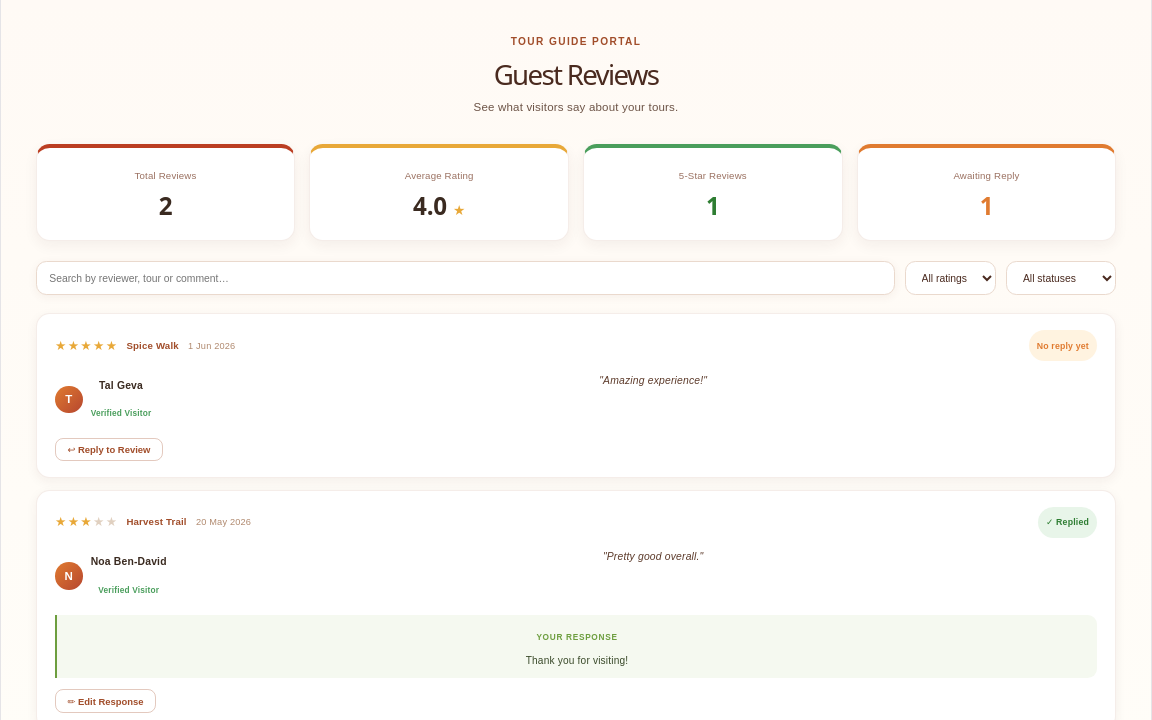
reply filter › pending filter shows only reviews without a reply
The width and height of the screenshot is (1152, 720).
Expected: the text "Tal Geva" is shown, 99,380 -> 143,390
Select "Awaiting reply" in the 2nd dropdown. click: [1061, 278]
box: 1006,261 -> 1116,295
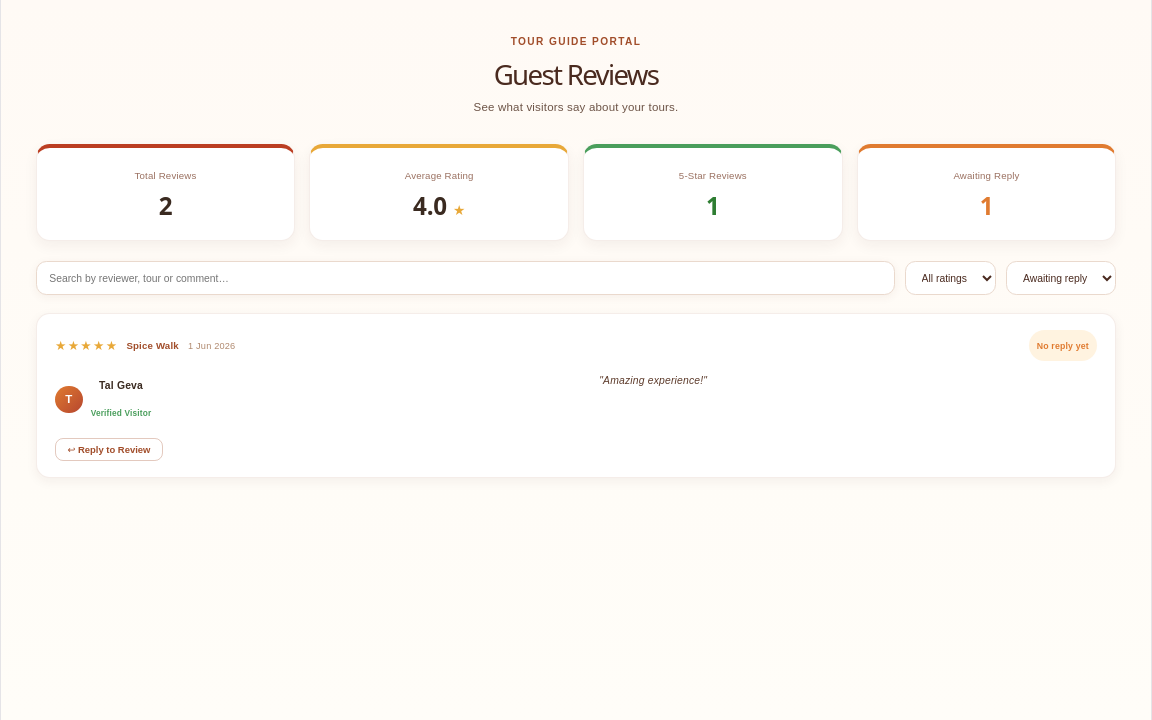
Expected: the text "Tal Geva" is shown, 99,380 -> 143,390
Now the text "Noa Ben-David" is gone
